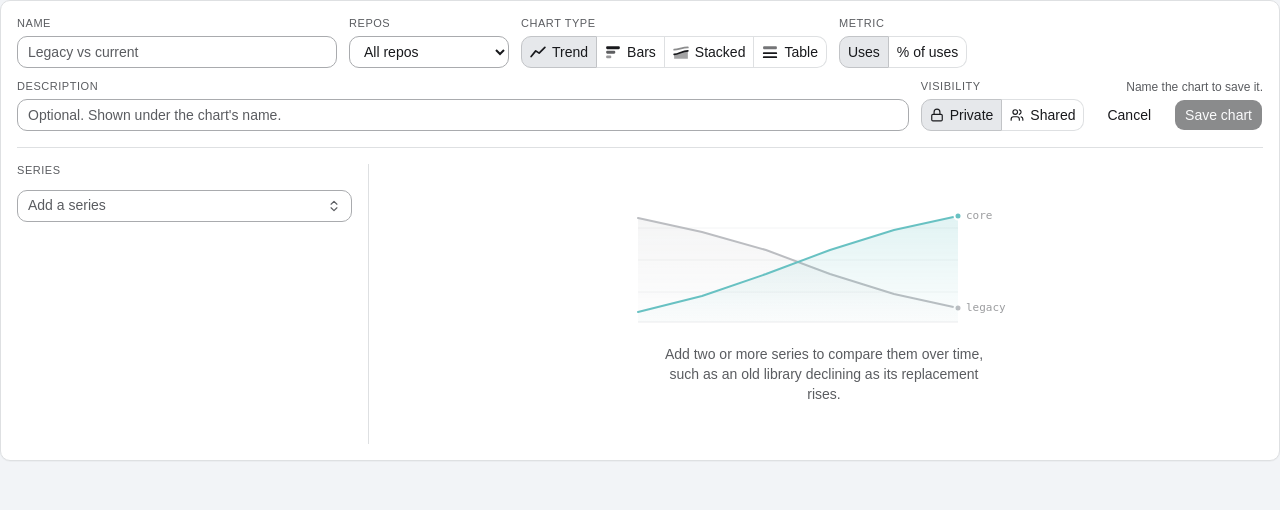
forms after the session has ended › tells the chart builder to sign in again to save
The image size is (1280, 510).
Type "Adoption" into the field labelled "Name".
click(177, 52); type("Adoption")  # box 17,36 -> 337,68
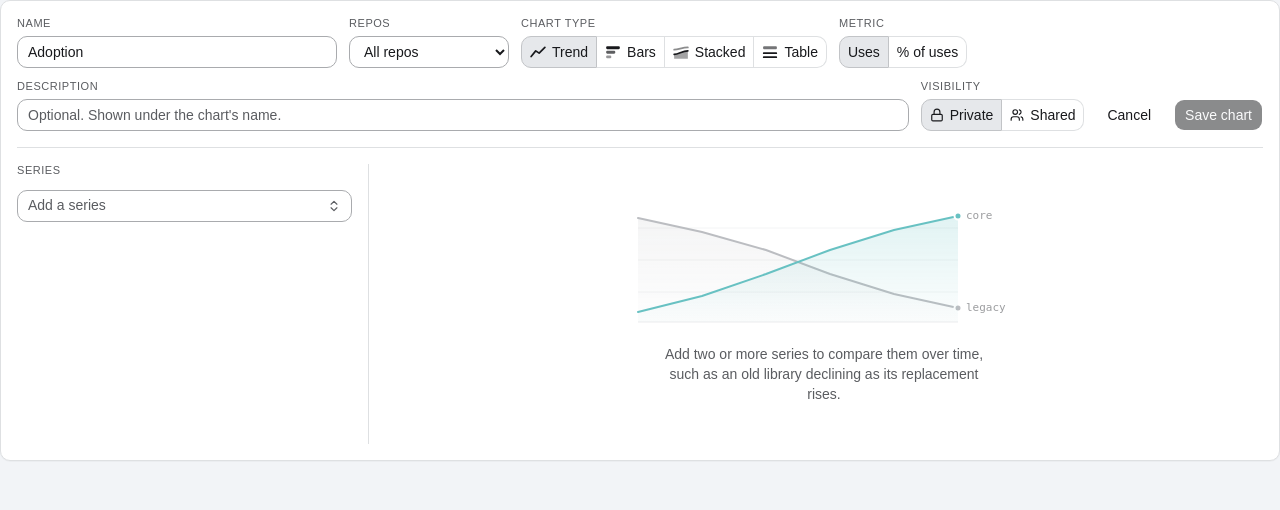
Click the dropdown labelled "Add a series".
click(174, 206)  # box 28,191 -> 321,221
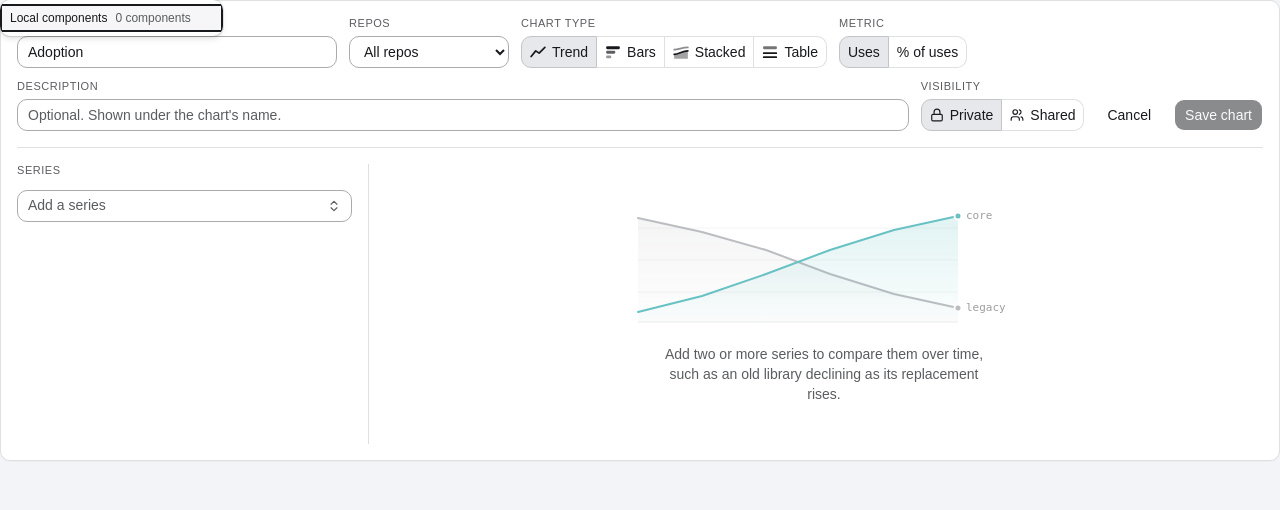
Click the option "Local components 0 components".
click(111, 18)  # box 0,4 -> 223,32
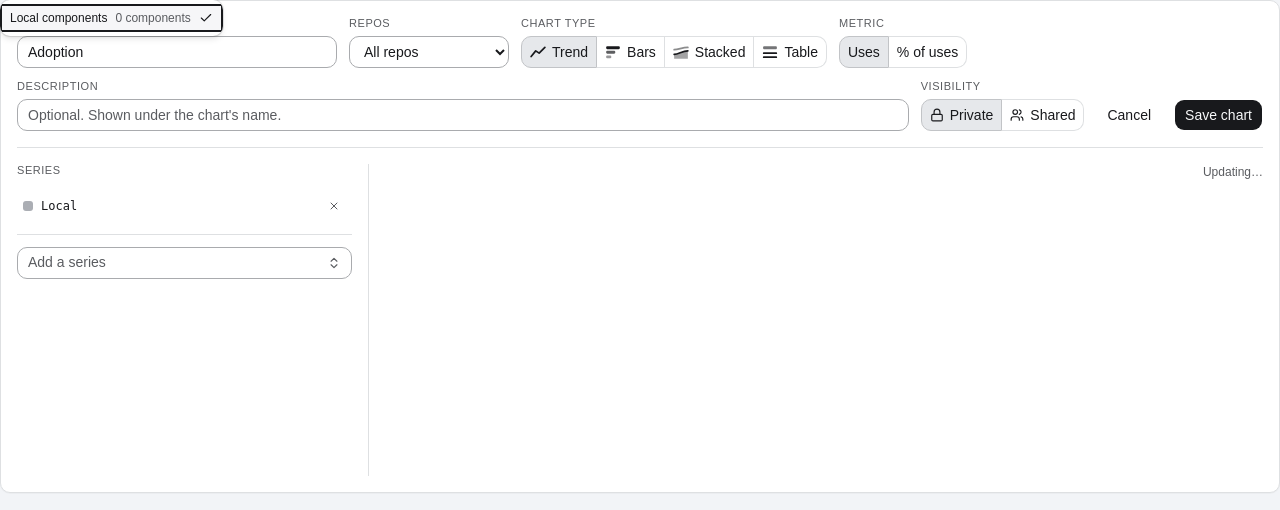
Click the button "Save chart".
click(1219, 115)  # box 1174,99 -> 1263,131
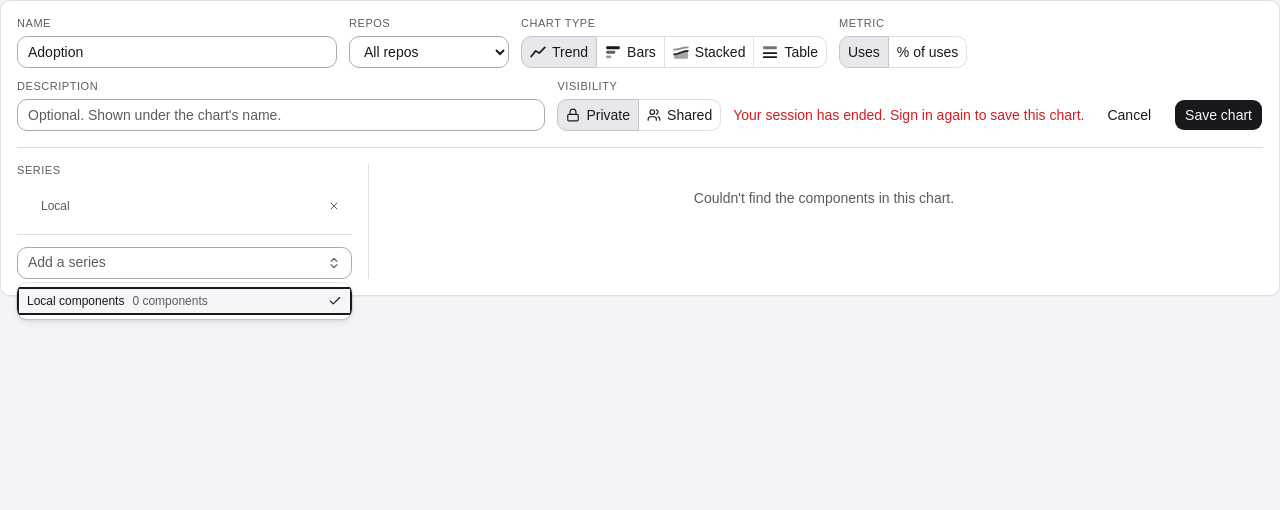
Expected: the text "Your session has ended. Sign in again to save this chart." is shown, 733,105 -> 1084,125
